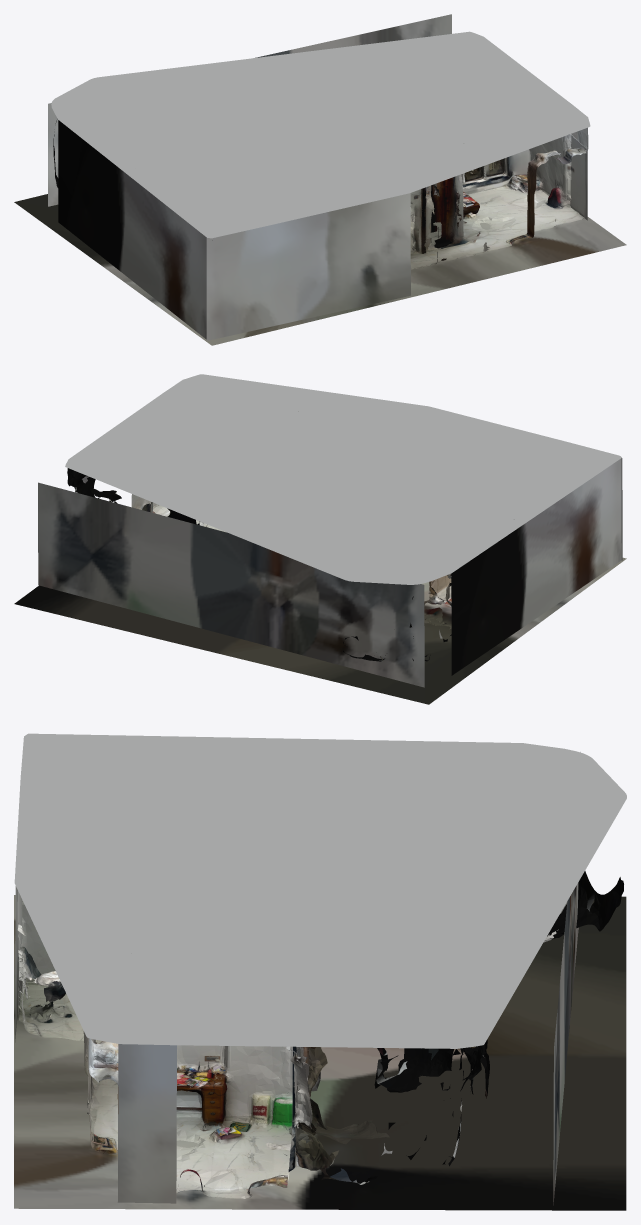
3 views of the same model, one above another, from view 1: azimuth 30°, elevation 25°; view 2: azimuth 150°, elevation 25°; view 3: azimuth 270°, elevation 25° (orthographic). The views are drawn at different scales.
Size of the model in its own units: 11.38 by 2.77 by 9.4.
Materials: 5 (4 with a texture image).
